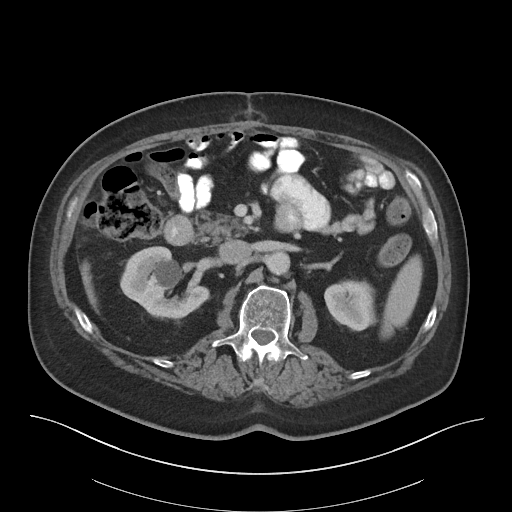Lesion: (151, 258, 183, 290)
